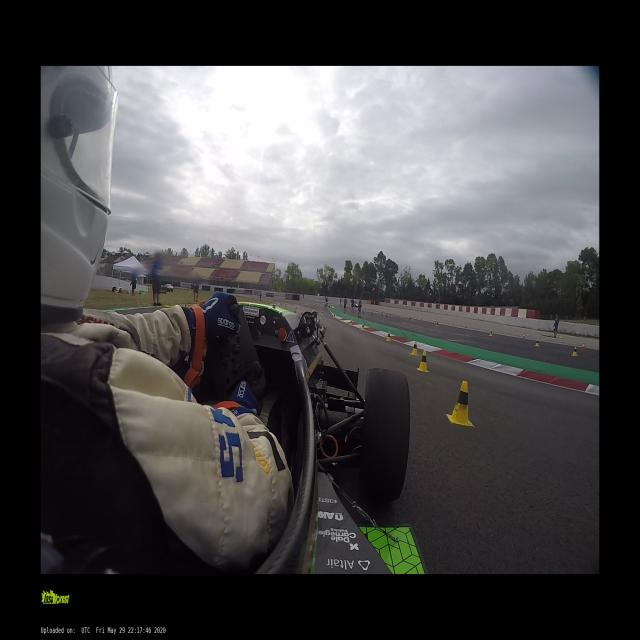orange_cone: (581, 343, 585, 351), (522, 333, 526, 340), (464, 324, 467, 328), (301, 310, 303, 314)
yellow_cone: (446, 381, 474, 427), (418, 350, 430, 372), (410, 342, 418, 356), (572, 346, 578, 357), (385, 332, 391, 342), (534, 339, 540, 347), (488, 329, 493, 336), (349, 319, 352, 326), (361, 324, 364, 330), (435, 321, 438, 327), (341, 317, 344, 322), (333, 314, 336, 318), (321, 311, 323, 315)
